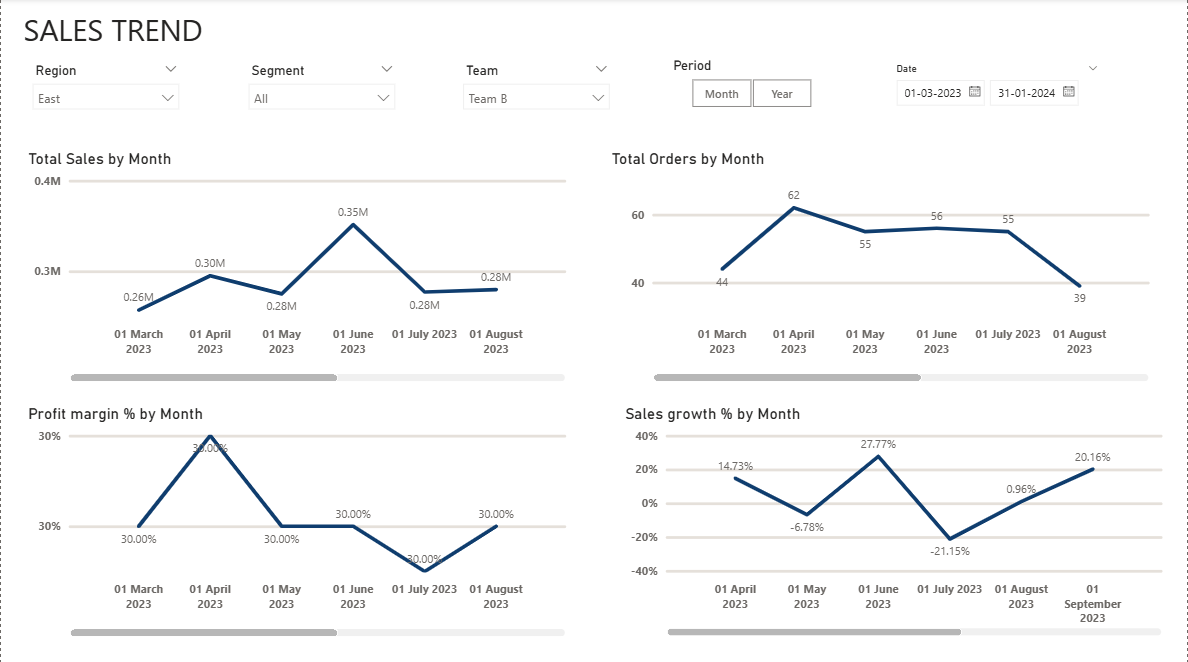

This screenshot's page, from the dashboard's own definition file:
{"tool":"powerbi","page":{"name":"Sales Trend","canvas":[1280,720],"ordinal":1},"visuals":[{"type":"lineChart","fields":{"Category":["Calender.Start of Month","Calender.Year"],"Y":["_All Measures.Total Sales"]},"box":[24.3,163.5,595,255],"z":0},{"type":"slicer","fields":{"Values":["Calender.Date"]},"box":[953.7,64.8,242.9,58.3],"z":1000},{"type":"slicer","fields":{"Values":["SalesData.Region"]},"box":[24.3,64.8,178.1,71.2],"z":2000},{"type":"slicer","fields":{"Values":["SalesData.Segment"]},"box":[256.7,64.8,178,71],"z":3000},{"type":"slicer","fields":{"Values":["SalesData.Team"]},"box":[488.9,64.8,178.1,71.2],"z":4000},{"type":"actionButton","title":"SALES TREND","box":[24.3,11.3,553.8,40.5],"z":5000},{"type":"slicer","title":"Period","fields":{"Values":["Period.Period"]},"box":[721.3,64.8,178.1,59.9],"z":6000},{"type":"lineChart","fields":{"Category":["Calender.Start of Month","Calender.Year"],"Y":["_All Measures.Total Orders"]},"box":[654.2,163.5,595,255],"z":7000},{"type":"lineChart","fields":{"Category":["Calender.Start of Month","Calender.Year"],"Y":["_All Measures.Profit margin %"]},"box":[24.3,438.8,595,255],"z":8000},{"type":"lineChart","fields":{"Category":["Calender.Start of Month","Calender.Year"],"Y":["_All Measures.Sales growth %"]},"box":[668.7,438.8,594.3,254.2],"z":9000}]}

Visuals, with their boxes in screenshot pixels (x1, y1, x2, y2), scaled from the page's 1280x720 canvas onto the 1188x662 screenshot:
lineChart - Calender.Start of Month x Calender.Year: BBox(23, 150, 575, 385)
slicer - Calender.Date: BBox(885, 60, 1111, 113)
slicer - SalesData.Region: BBox(23, 60, 188, 125)
slicer - SalesData.Segment: BBox(238, 60, 403, 125)
slicer - SalesData.Team: BBox(454, 60, 619, 125)
"SALES TREND" actionButton: BBox(23, 10, 537, 48)
"Period" slicer: BBox(669, 60, 835, 115)
lineChart - Calender.Start of Month x Calender.Year: BBox(607, 150, 1159, 385)
lineChart - Calender.Start of Month x Calender.Year: BBox(23, 403, 575, 638)
lineChart - Calender.Start of Month x Calender.Year: BBox(621, 403, 1172, 637)
